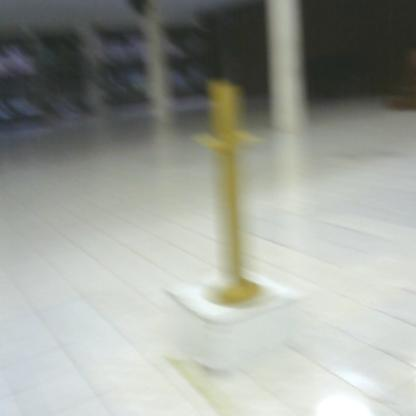pole: (186, 74, 276, 316)
